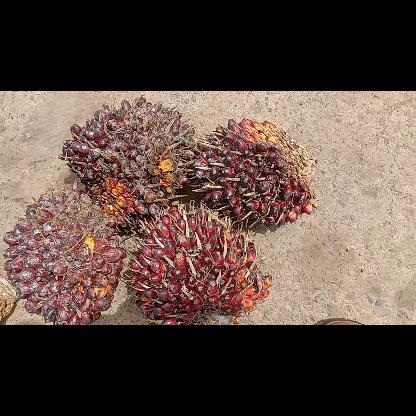Kurang masak: (58, 94, 197, 230), (122, 200, 272, 324)
TBS mentah: (0, 186, 127, 325), (186, 117, 318, 229)
